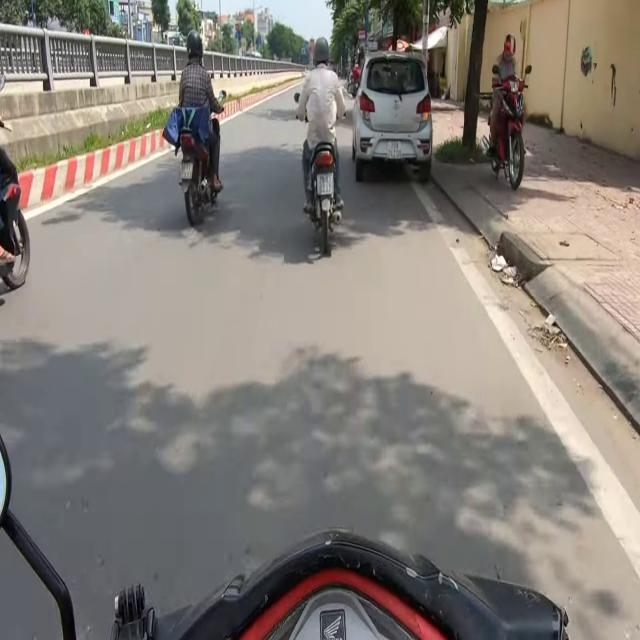bien_trang: (316, 173, 334, 199), (388, 141, 402, 159)
